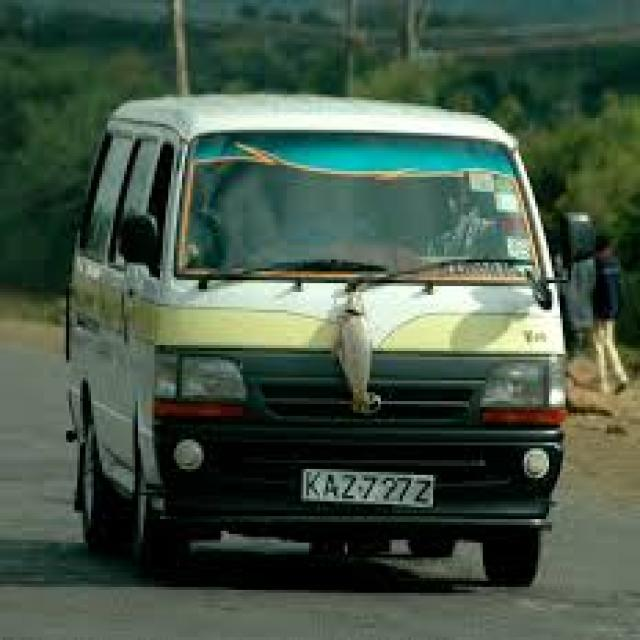matatu: (50, 30, 615, 607)
